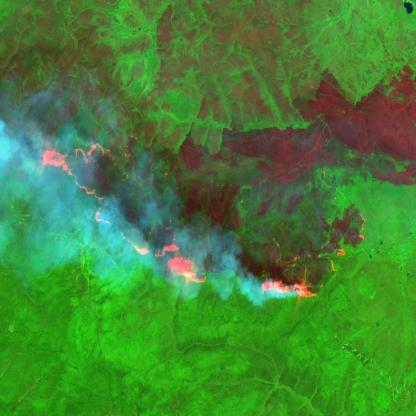fire: (27, 128, 371, 309)
